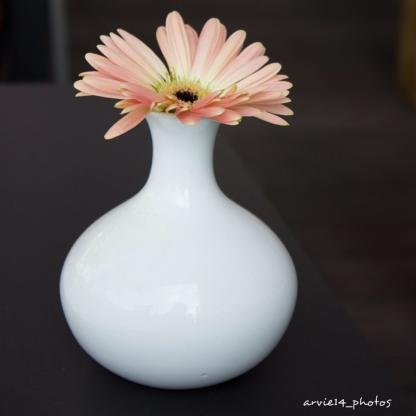vase: (58, 112, 298, 388)
